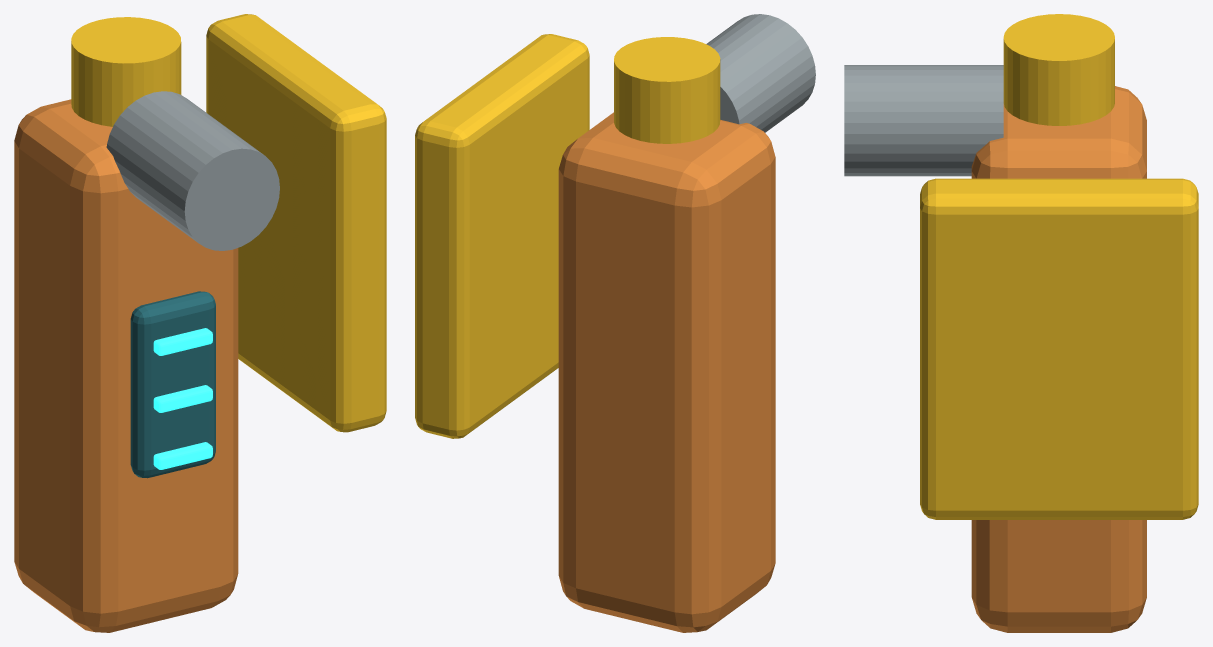
The model's file is medicinal_inhaler_variant_b.glb.
The picture shows the model from 3 angles, left to right: view 1: azimuth 30°, elevation 25°; view 2: azimuth 150°, elevation 25°; view 3: azimuth 270°, elevation 25°; orthographic projection. The views are drawn at different scales.
Visible parts, largest first — view 1: Inhaler body, Reinforced side armor, Mouthpiece, Dose window, Release button, Dose marking, Dose marking.001, Dose marking.002; view 2: Inhaler body, Reinforced side armor, Release button, Mouthpiece; view 3: Reinforced side armor, Inhaler body, Mouthpiece, Release button.
Boxes of the visible parts, x1=… form: Inhaler body: x1=14, y1=99, x2=238, y2=632; Reinforced side armor: x1=206, y1=14, x2=386, y2=432; Mouthpiece: x1=106, y1=91, x2=279, y2=250; Dose window: x1=130, y1=291, x2=215, y2=478; Release button: x1=71, y1=17, x2=181, y2=126; Dose marking: x1=153, y1=442, x2=212, y2=469; Dose marking.001: x1=153, y1=385, x2=212, y2=412; Dose marking.002: x1=153, y1=328, x2=212, y2=355; Inhaler body: x1=558, y1=112, x2=775, y2=632; Reinforced side armor: x1=415, y1=34, x2=589, y2=438; Release button: x1=614, y1=37, x2=720, y2=143; Mouthpiece: x1=706, y1=14, x2=815, y2=132; Reinforced side armor: x1=920, y1=178, x2=1198, y2=519; Inhaler body: x1=971, y1=86, x2=1146, y2=632; Mouthpiece: x1=844, y1=65, x2=1003, y2=176; Release button: x1=1003, y1=14, x2=1114, y2=125.
Size of what is drawn, in the model's own units: 0.41 by 0.785 by 0.445.
